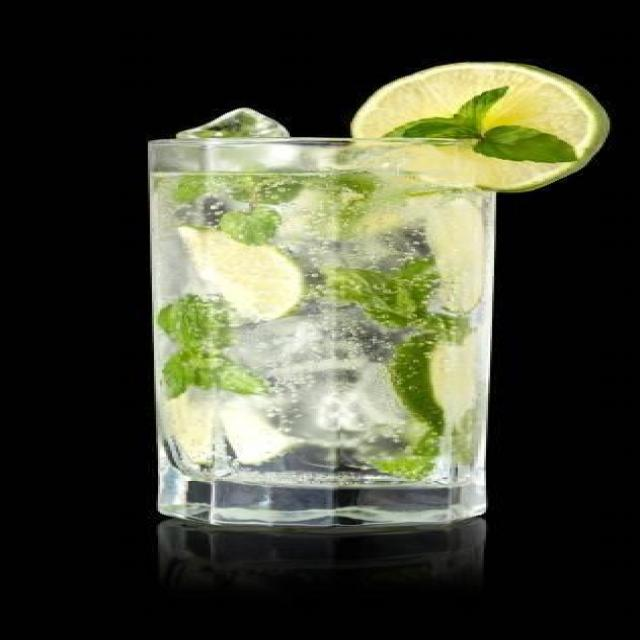glass-normal: (140, 132, 504, 532)
